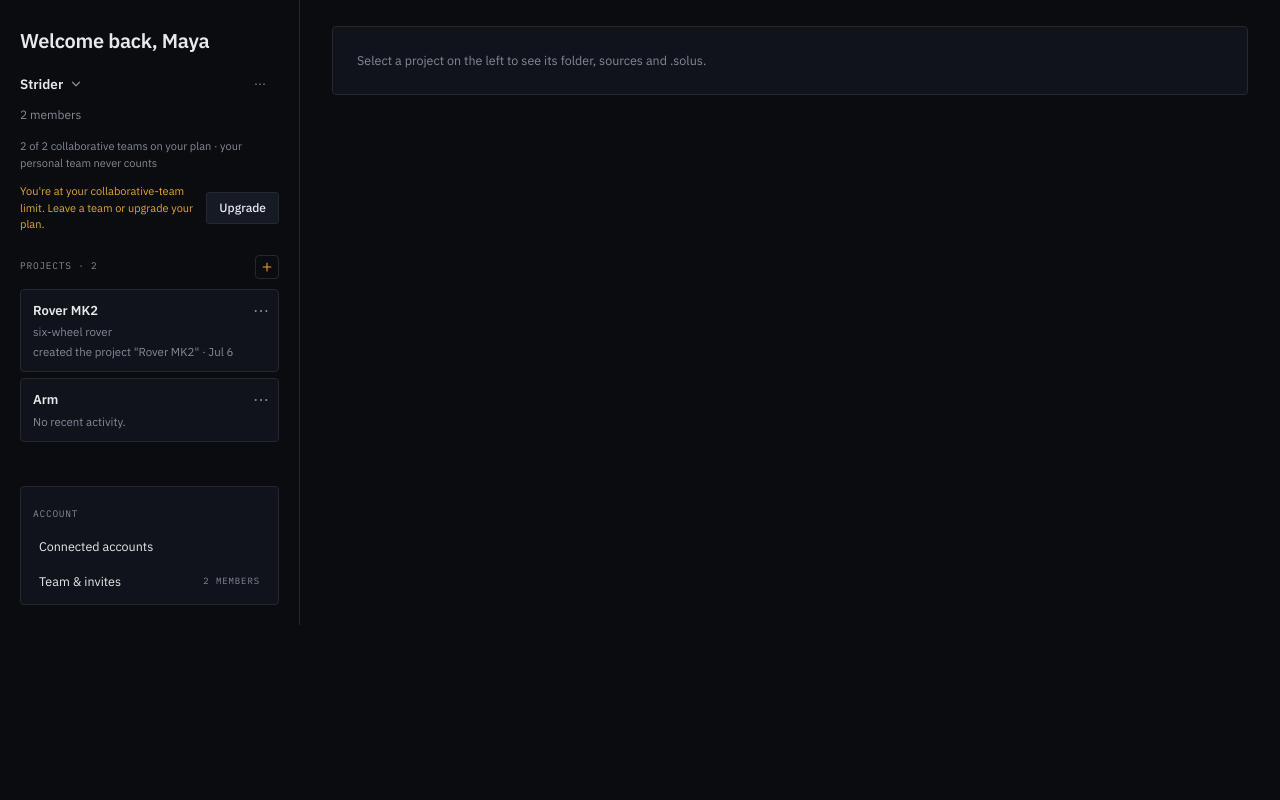
Scenario: HomeScreen — the team layer (SOLUSDEV-244 / HOME H5) › a BASIC user at two collaborative teams sees the limit and the upgrade path
Expected: the element with test id "team-limit" shows "2 of 2 collaborative teams", [20,139,242,170]
Click the button "Upgrade". click: (243, 208)
box: [206,192,279,224]
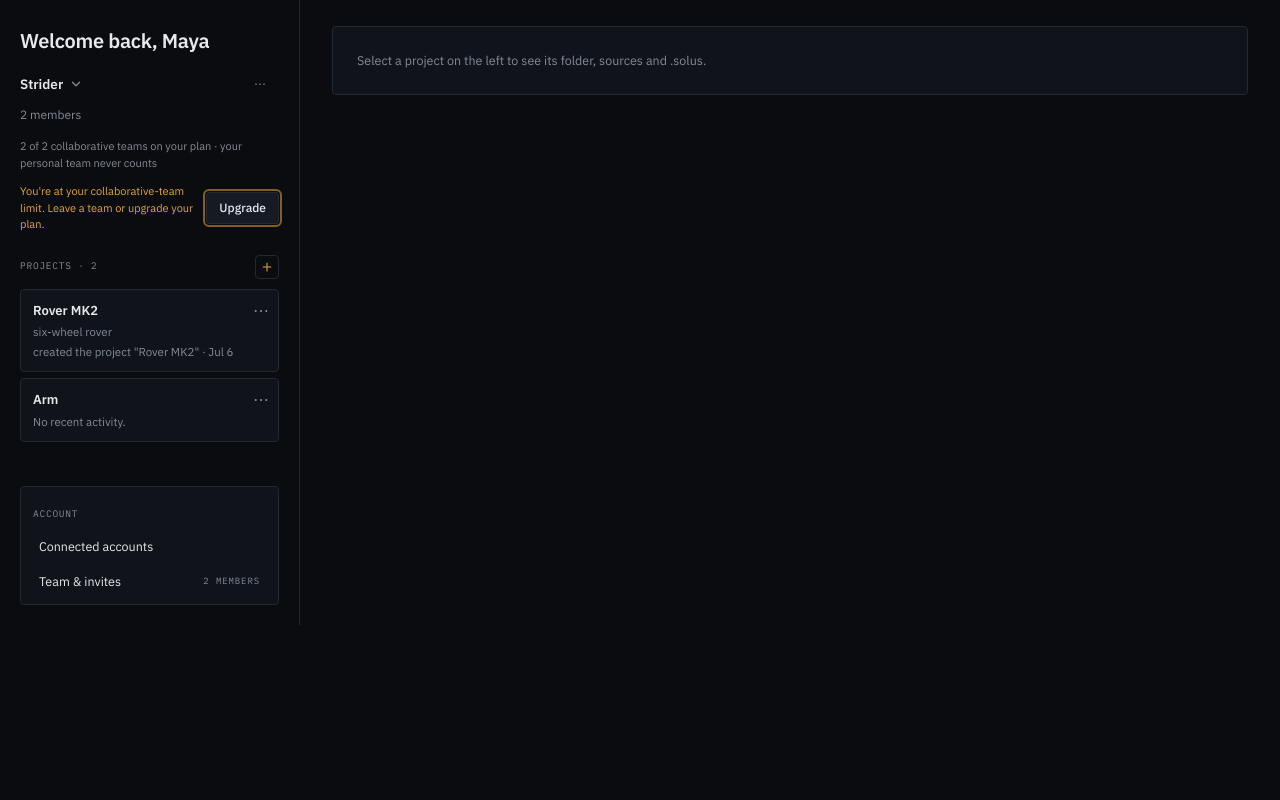
Click the button named "Team menu". click: (260, 84)
box: [241,68,279,100]
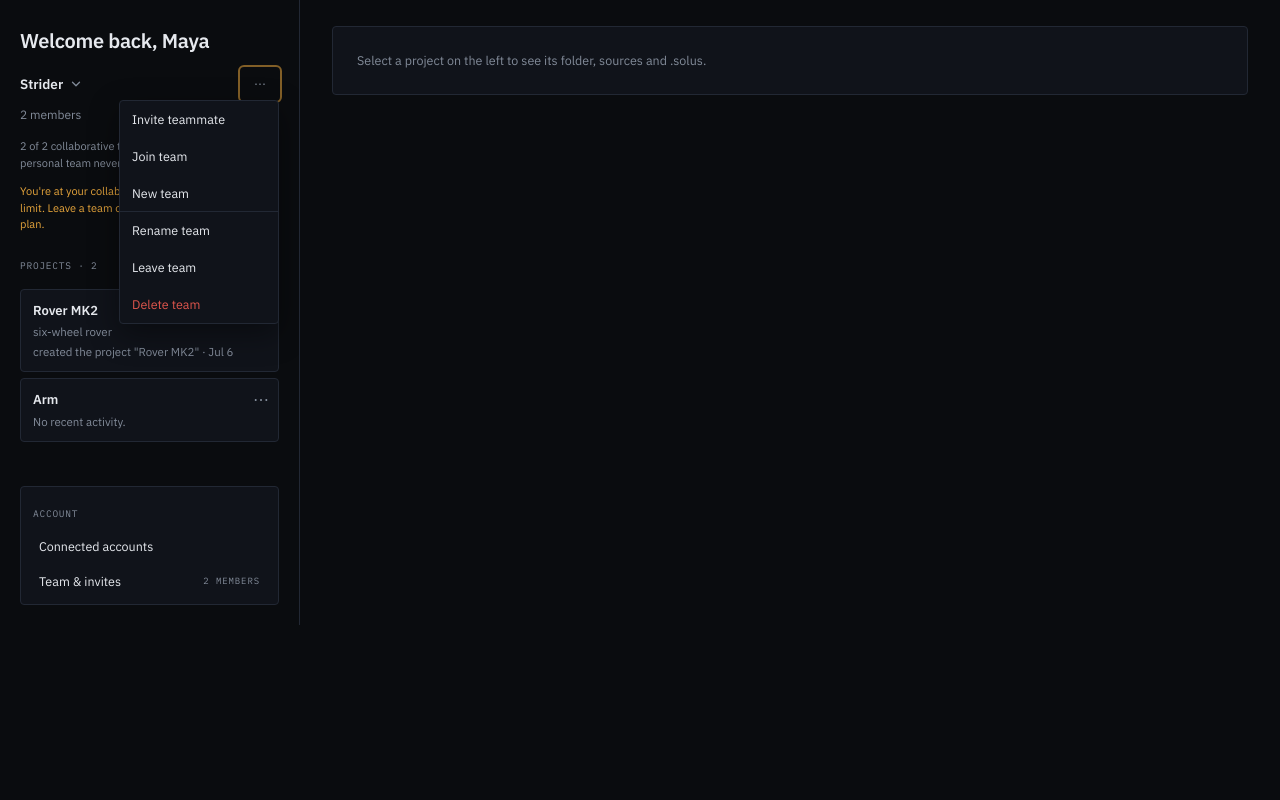
Click the menu item "New team". click: (199, 193)
box: [120,174,278,211]
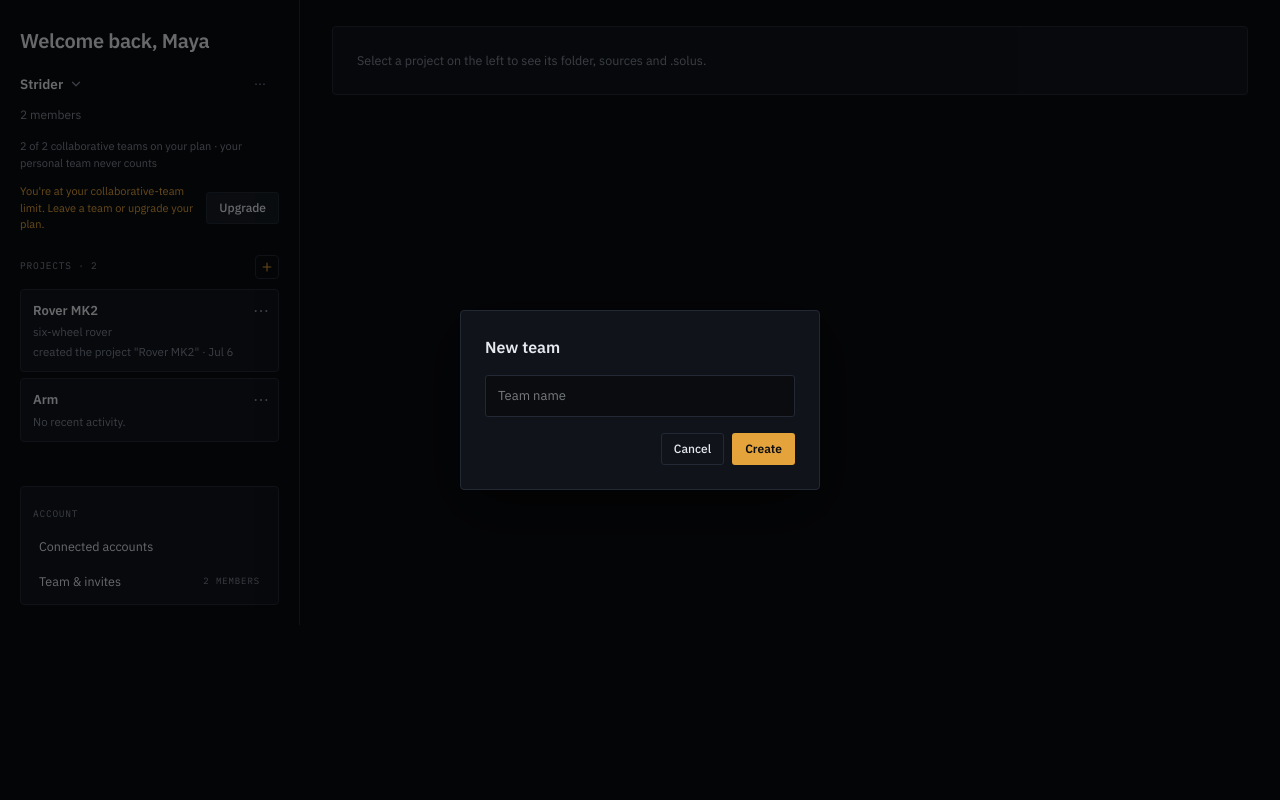
Type "Third" into the field labelled "Team name". click: (640, 396)
box: [485,375,795,417]
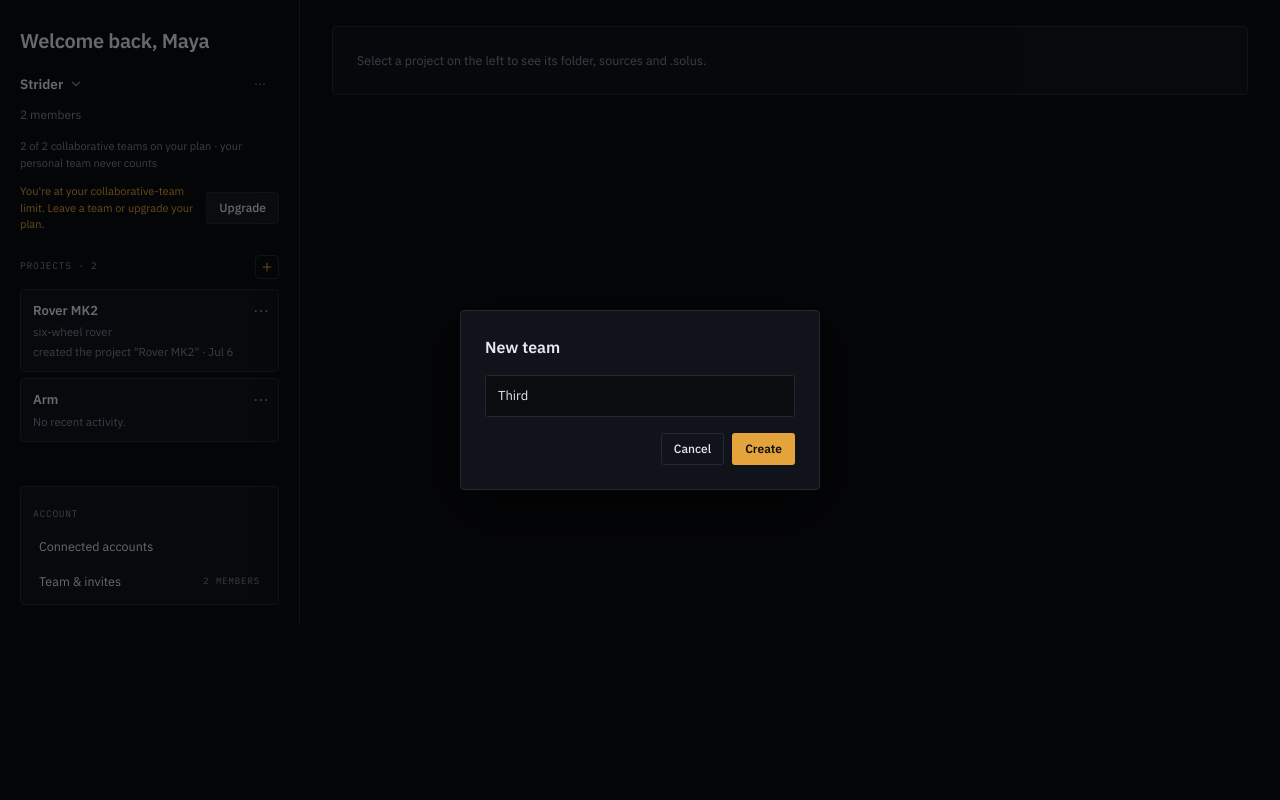
Click the button "Create". click: (764, 449)
box: [732,433,795,465]
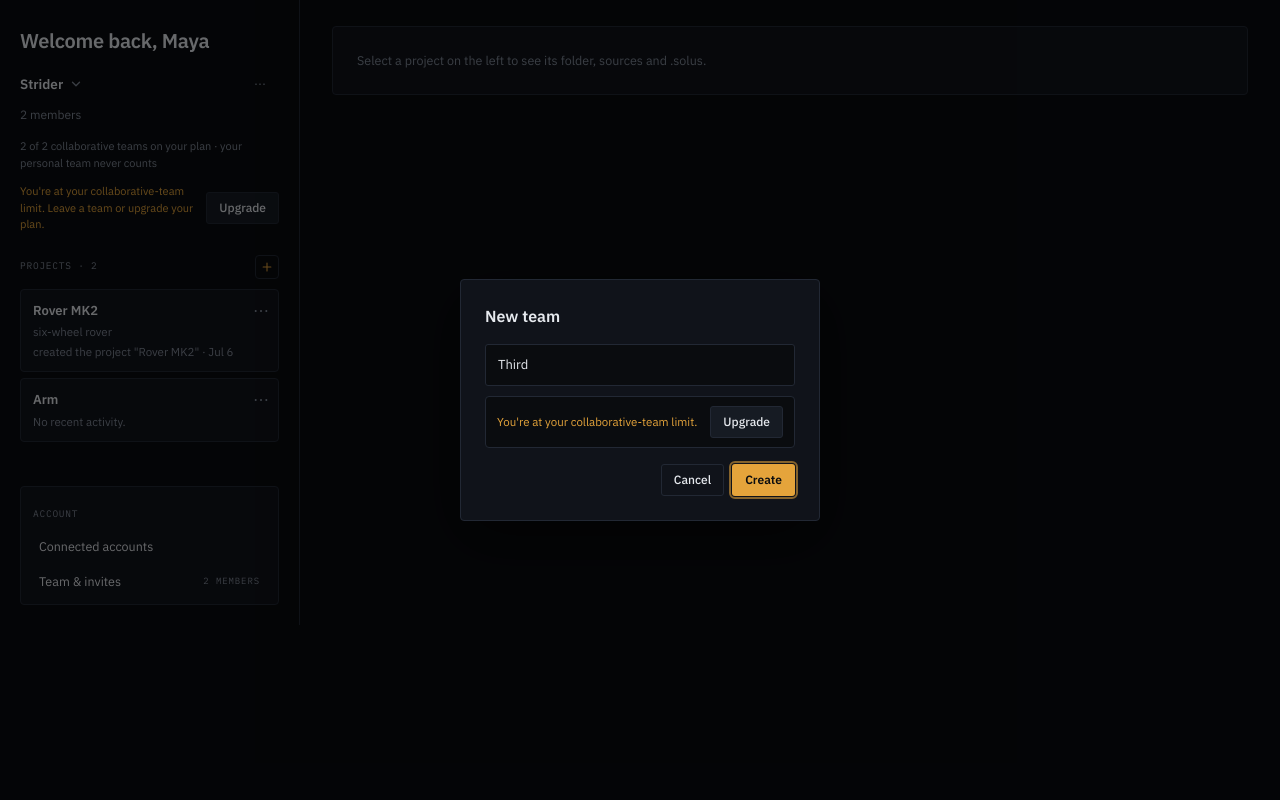
Now the text "You're at your collaborative-team limit." is shown, box [497,413,700,430]
